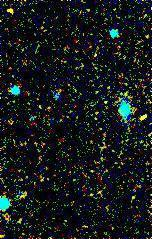star: (0, 0, 28, 28)
